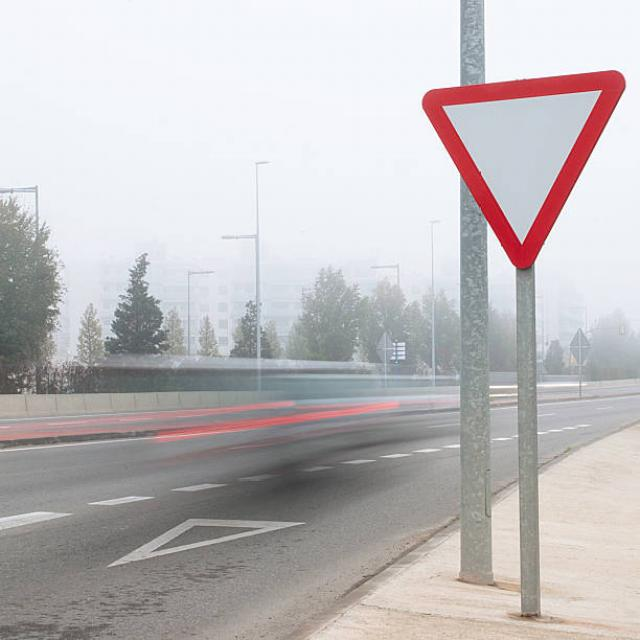give_way: (388, 65, 638, 272)
